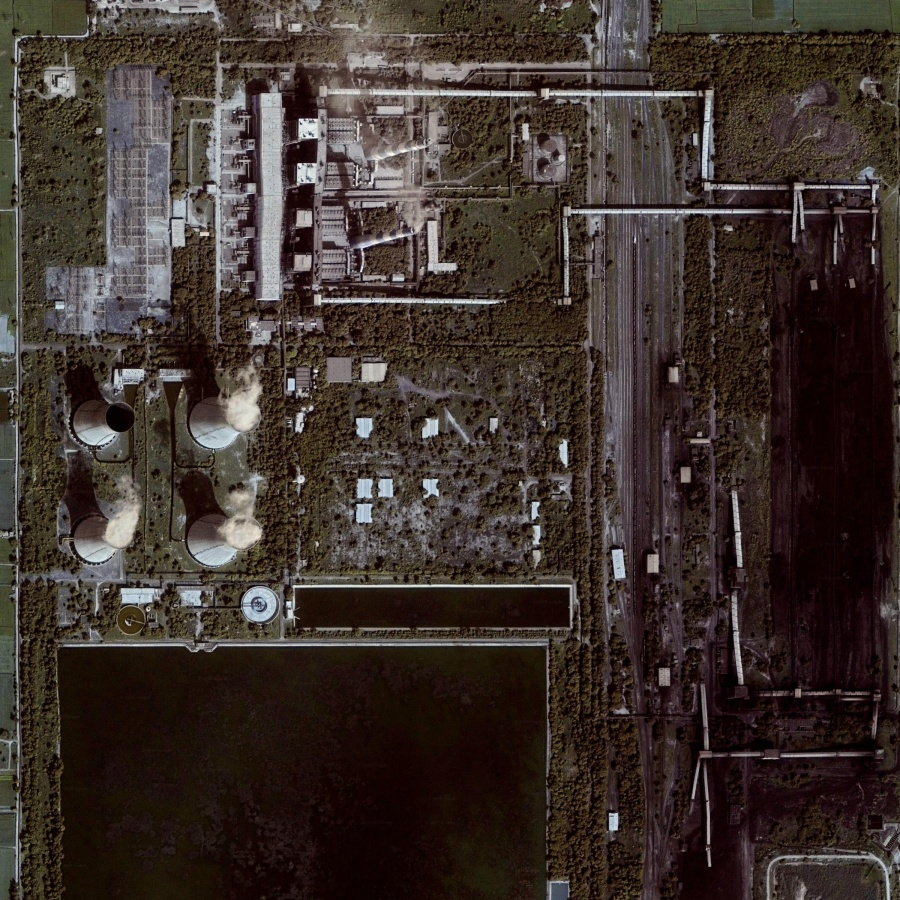PowerPlant: (40, 67, 607, 583)
